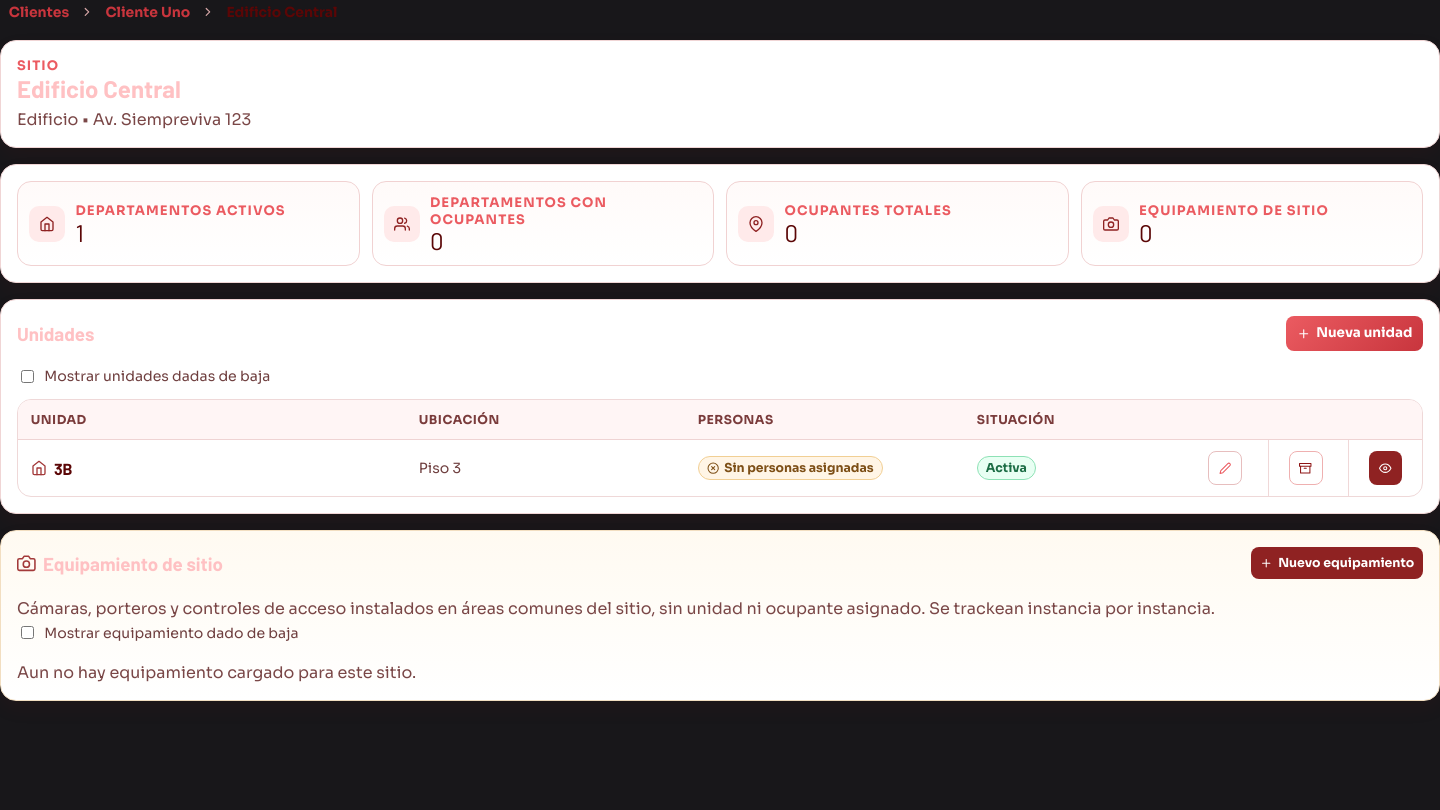
Test: SitioDetailPage › muestra el error de guardado sin cerrar el modal si falla el PUT
The image size is (1440, 810).
Expected: the text "3B" is shown, top-left (31, 459), bottom-right (73, 478)
Click the button named "Editar unidad 3B" at (1225, 468), box top-left (1208, 451), bottom-right (1242, 485)
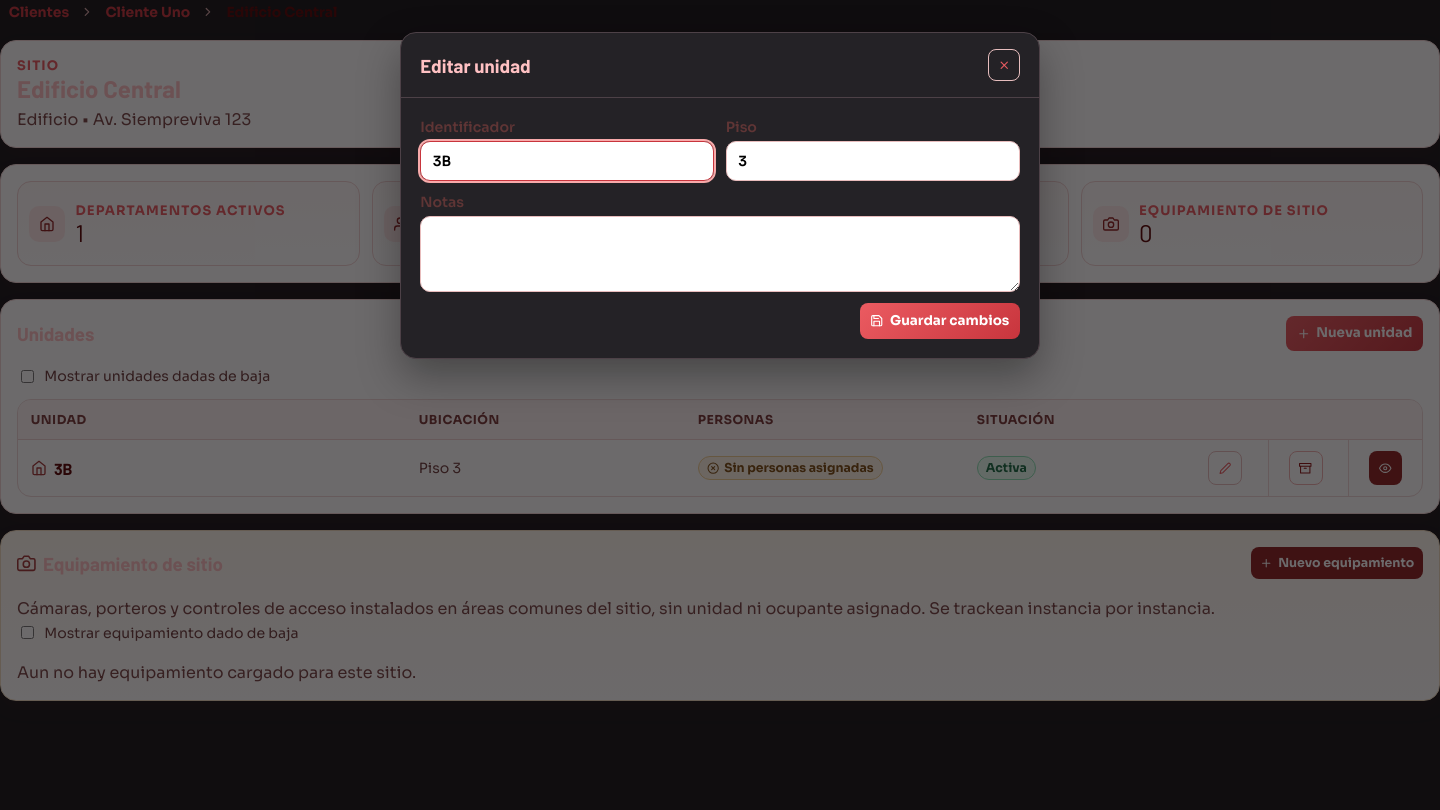
Click the button "Guardar cambios" at (940, 321), box top-left (860, 303), bottom-right (1020, 339)
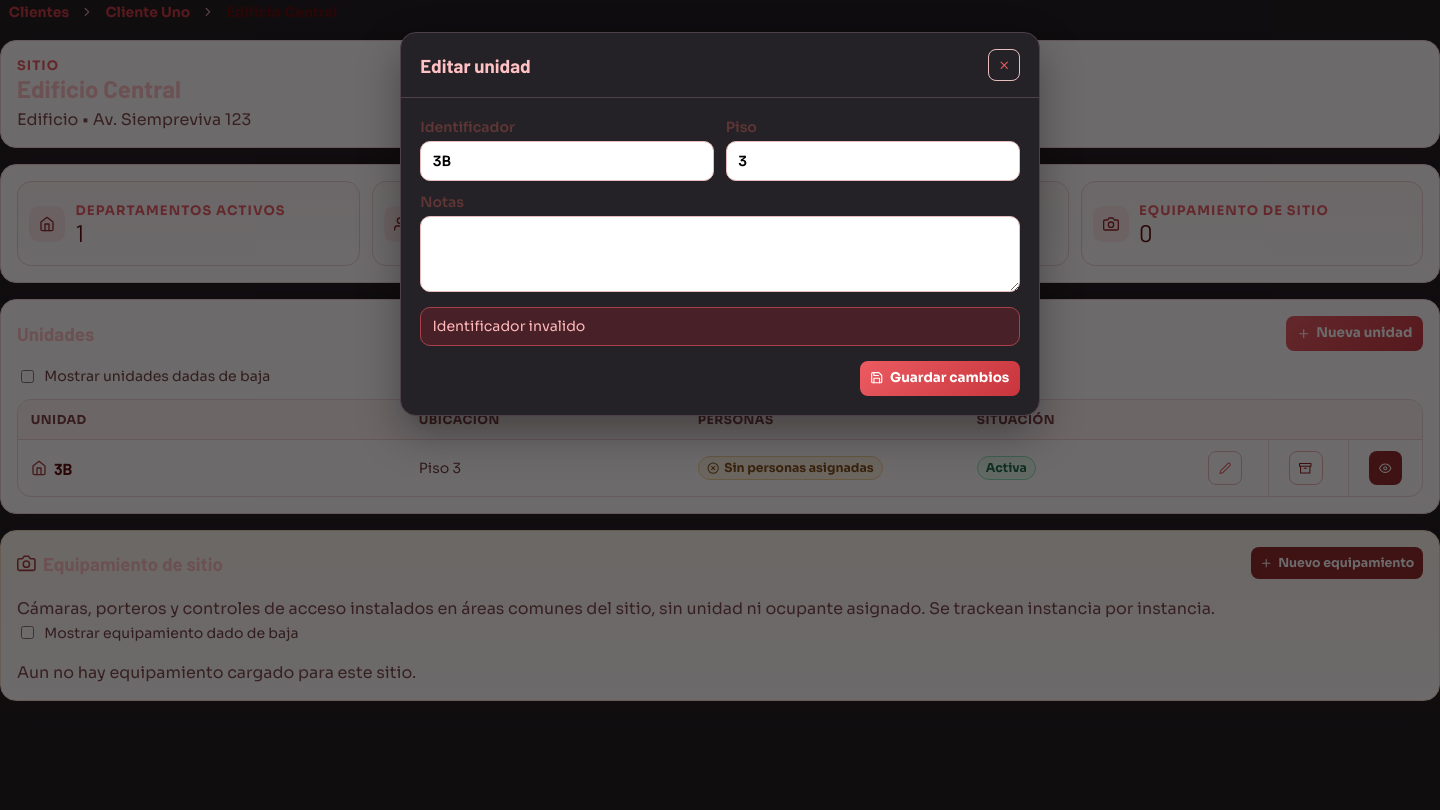
Expected: the field labelled "Identificador" is shown, top-left (420, 141), bottom-right (714, 181)
Expected: the text "Identificador invalido" is shown, top-left (420, 307), bottom-right (1020, 346)
